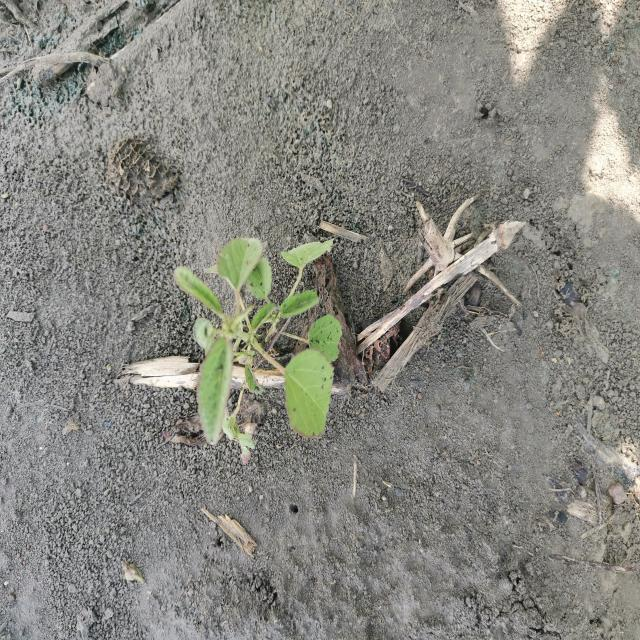PricklySida: (170, 234, 344, 466)
